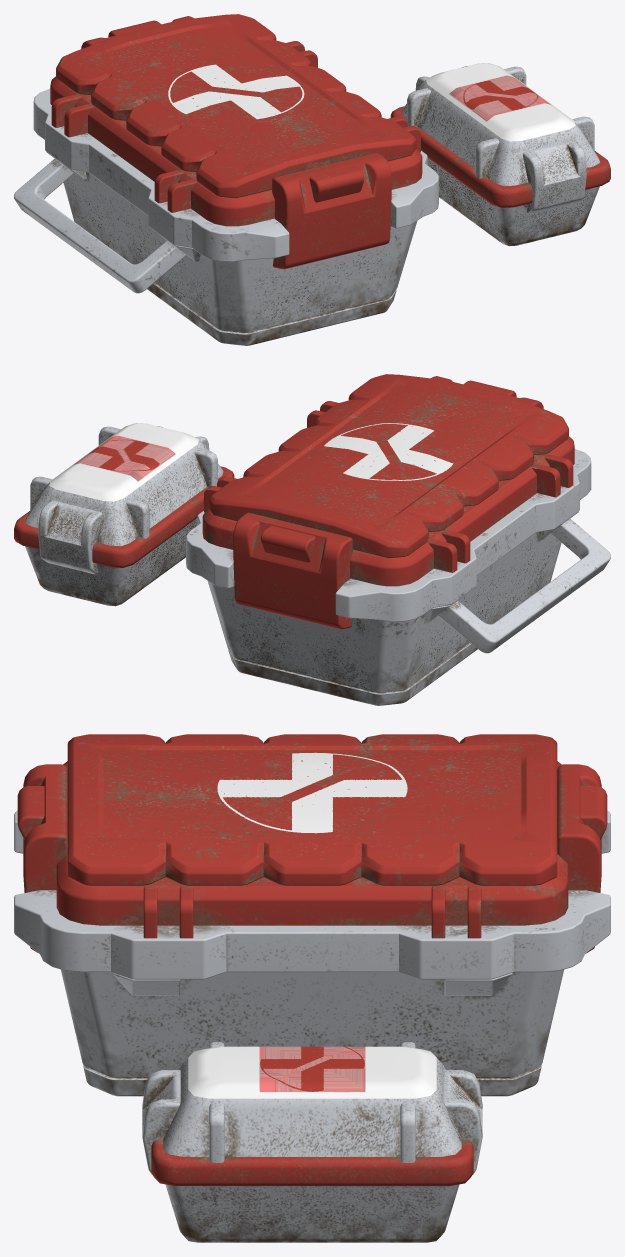
File: Med-Kit_&_Syringe.fbx
3 renders of one model, top to bottom at view 1: azimuth 30°, elevation 25°; view 2: azimuth 150°, elevation 25°; view 3: azimuth 270°, elevation 25°, orthographic. The views are drawn at different scales.
Parts seen in each view (by area): view 1: Lid_Med_Kit, Base_Med_Kit, Main_Syringe, Decal_Syringe, Decal_Med_Kit; view 2: Lid_Med_Kit, Base_Med_Kit, Main_Syringe, Decal_Syringe, Decal_Med_Kit; view 3: Lid_Med_Kit, Base_Med_Kit, Main_Syringe, Decal_Syringe, Decal_Med_Kit.
Part boxes in pixels (x1,y1,x2,y2): Lid_Med_Kit: [50, 14, 422, 269]; Base_Med_Kit: [14, 88, 438, 345]; Main_Syringe: [390, 66, 610, 246]; Decal_Syringe: [426, 63, 575, 141]; Decal_Med_Kit: [168, 64, 304, 119]; Lid_Med_Kit: [202, 374, 574, 629]; Base_Med_Kit: [186, 448, 610, 705]; Main_Syringe: [14, 426, 234, 606]; Decal_Syringe: [49, 423, 198, 501]; Decal_Med_Kit: [324, 423, 453, 480]; Lid_Med_Kit: [17, 734, 607, 952]; Base_Med_Kit: [14, 810, 610, 1096]; Main_Syringe: [142, 1042, 482, 1242]; Decal_Syringe: [188, 1046, 436, 1098]; Decal_Med_Kit: [217, 752, 407, 833].
Size of the model in its own units: 23.1 by 8.17 by 17.5.
